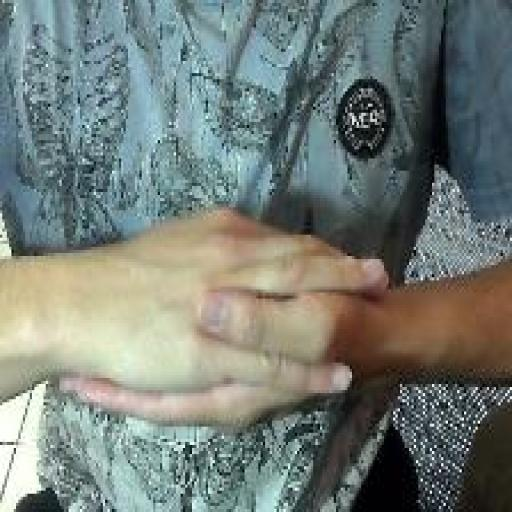Saru -monkey-: (56, 200, 392, 450)
